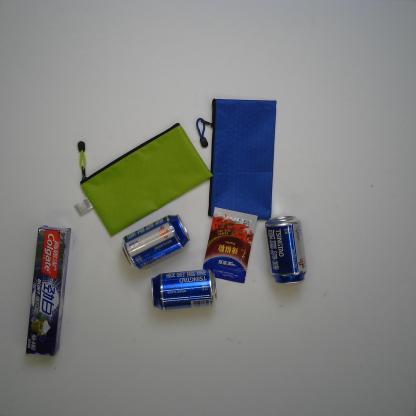Alcohol: (120, 214, 192, 270), (146, 267, 218, 312), (263, 213, 308, 284)
Personal Hygiene: (22, 223, 72, 359)
Seasoner: (201, 205, 260, 285)
Stationery: (72, 121, 213, 239), (194, 96, 280, 221)
